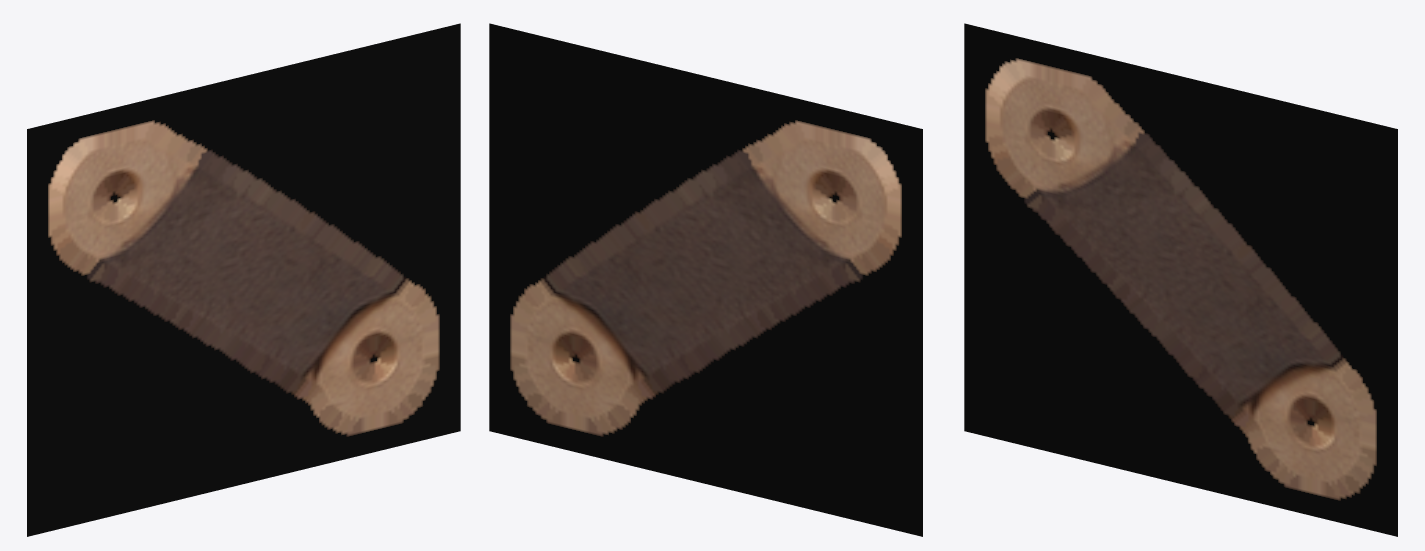
Rendered from Variant05Upper.glb.
3 renders of one model, left to right at view 1: azimuth 30°, elevation 25°; view 2: azimuth 150°, elevation 25°; view 3: azimuth 330°, elevation 25°, orthographic.
Parts seen in each view (by area): view 1: PaperVolume; view 2: PaperVolume; view 3: PaperVolume.
Part boxes in pixels (<box>): PaperVolume: <box>27,23,460,536</box>; PaperVolume: <box>489,23,922,536</box>; PaperVolume: <box>964,23,1397,536</box>.
Size of the model in its own units: 1.57 by 1.41 by 0.08.
3 materials, 2 textured.
